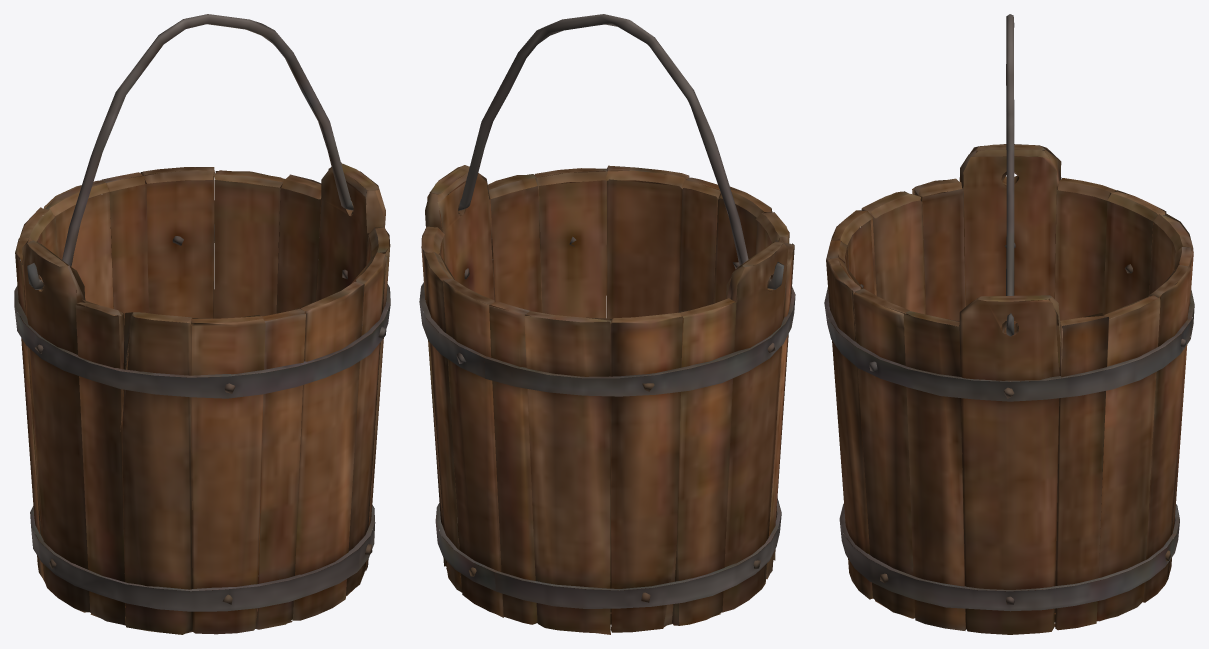
Rendered from bucket_wood.glb.
3 renders of one model, left to right at view 1: azimuth 30°, elevation 25°; view 2: azimuth 150°, elevation 25°; view 3: azimuth 270°, elevation 25°, orthographic.
Parts seen in each view (by area): view 1: wooden_bucket_01, wooden_bucket_01_handle; view 2: wooden_bucket_01, wooden_bucket_01_handle; view 3: wooden_bucket_01, wooden_bucket_01_handle.
Part boxes in pixels (<box>): wooden_bucket_01: <box>14,162,390,634</box>; wooden_bucket_01_handle: <box>27,14,353,289</box>; wooden_bucket_01: <box>419,165,795,634</box>; wooden_bucket_01_handle: <box>435,14,784,289</box>; wooden_bucket_01: <box>824,144,1194,634</box>; wooden_bucket_01_handle: <box>1006,14,1014,336</box>.
Size of the model in its own units: 0.3674 by 0.5517 by 0.3412.
Materials: 1 (1 with a texture image).
